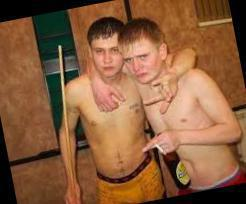Drunk: (125, 40, 160, 83), (91, 36, 122, 78)
